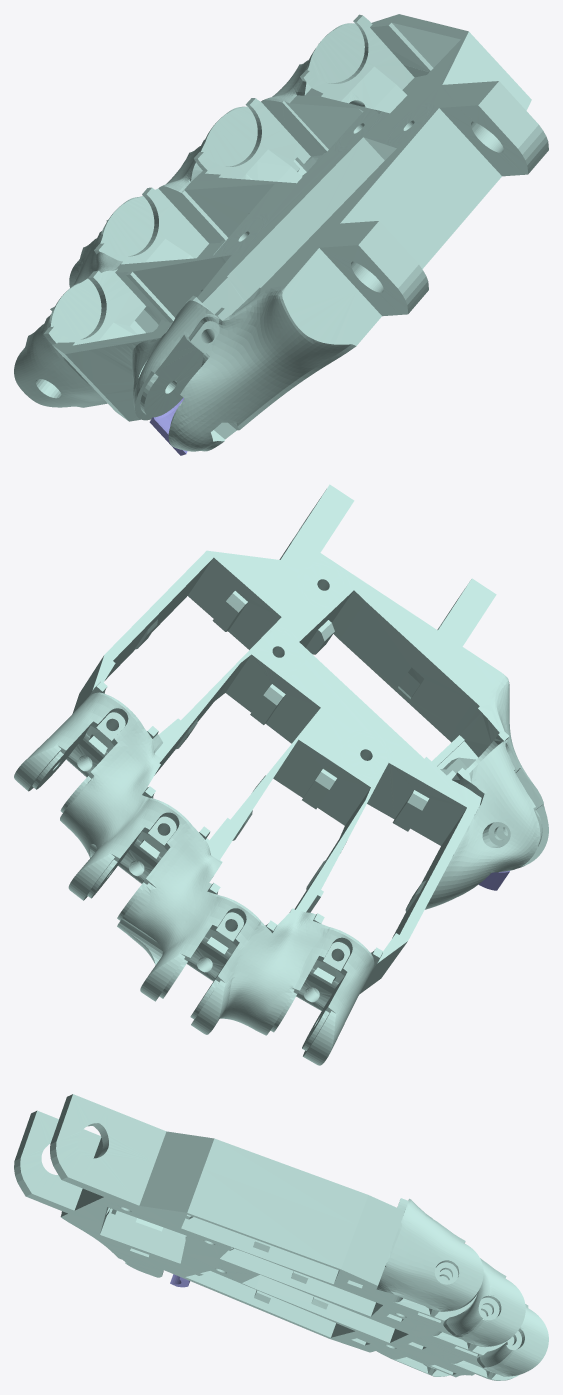
The model's file is right_wrist_z_link_visual_3.obj.full.glb.
The picture shows the model from 3 angles, top to bottom: view 1: azimuth 30°, elevation 25°; view 2: azimuth 150°, elevation 25°; view 3: azimuth 270°, elevation 25°; orthographic projection. The views are drawn at different scales.
Bounding box in the file's own units: 0.9967 × 0.9886 × 1.31.
